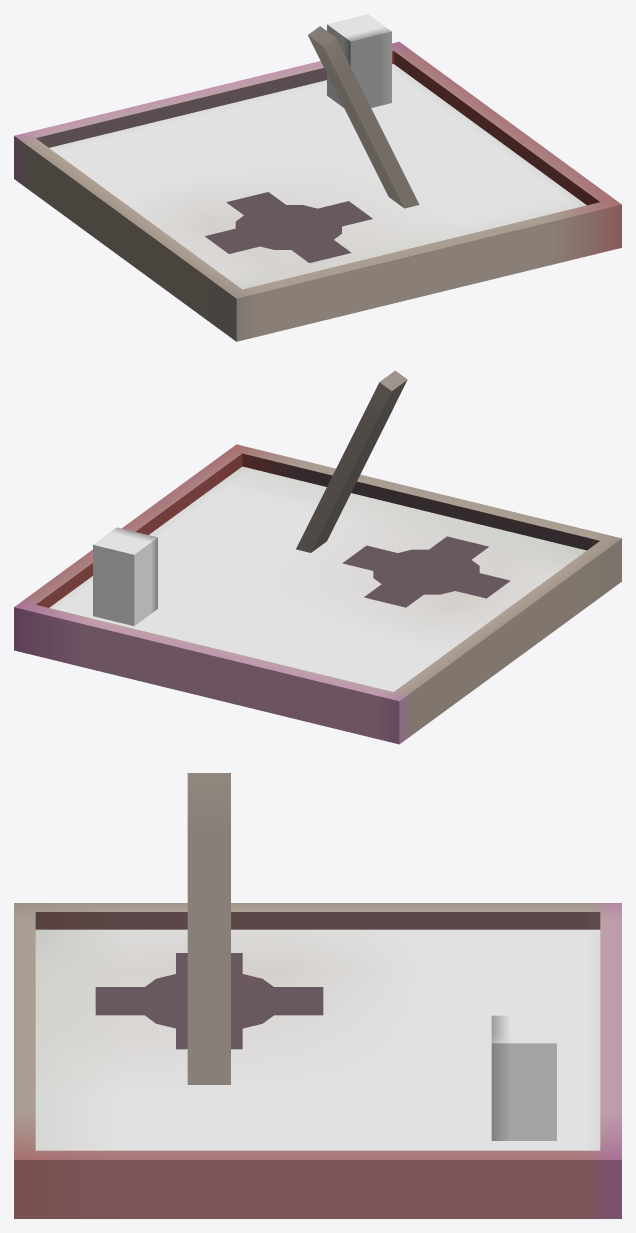
The model's file is SiloBase.glb.
The picture shows the model from 3 angles, top to bottom: view 1: azimuth 30°, elevation 25°; view 2: azimuth 150°, elevation 25°; view 3: azimuth 270°, elevation 25°; orthographic projection. The views are drawn at different scales.
Parts seen in each view (by area): view 1: SiloBase; view 2: SiloBase; view 3: SiloBase.
Part boxes in pixels (x1,y1,x2,y2): SiloBase: (14, 14, 621, 341); SiloBase: (14, 370, 621, 744); SiloBase: (14, 773, 621, 1218).
Size of the model in its own units: 2.8 by 1.51 by 2.8.
Materials: 1 (1 with a texture image).
